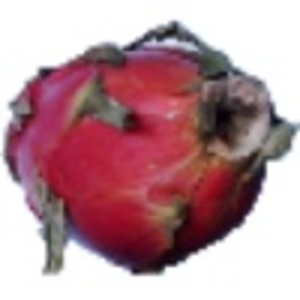pitaia: (1, 21, 300, 276)
